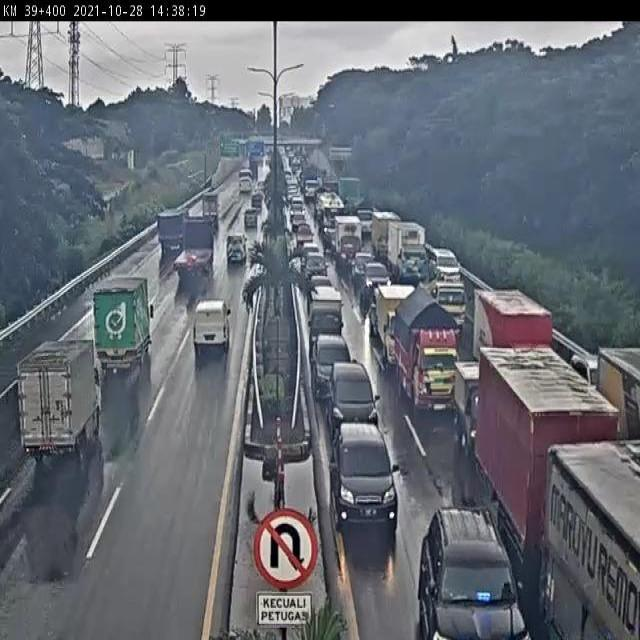big truck: (474, 345, 613, 556), (477, 288, 553, 379), (177, 216, 224, 275), (152, 197, 192, 255)
car: (550, 432, 640, 640), (424, 500, 525, 640), (335, 417, 416, 531), (184, 289, 243, 364), (331, 365, 384, 435), (303, 333, 353, 404), (427, 248, 470, 288), (360, 261, 396, 300), (225, 233, 247, 268), (242, 207, 260, 228)
small truck: (15, 332, 106, 457), (394, 289, 471, 419), (88, 276, 161, 377), (374, 282, 421, 369), (451, 358, 497, 446), (385, 220, 431, 292), (304, 287, 345, 353), (423, 283, 470, 336), (371, 206, 404, 262), (201, 193, 228, 228)
